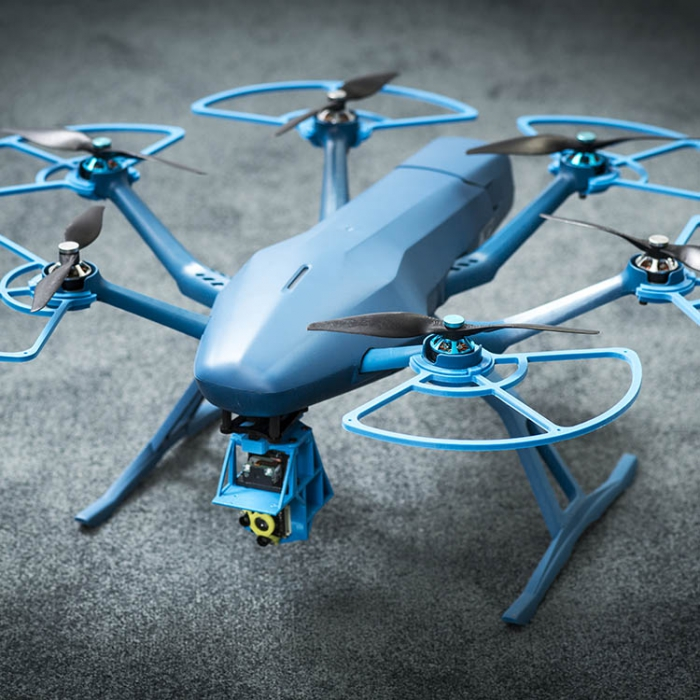drone: (1, 70, 697, 638)
